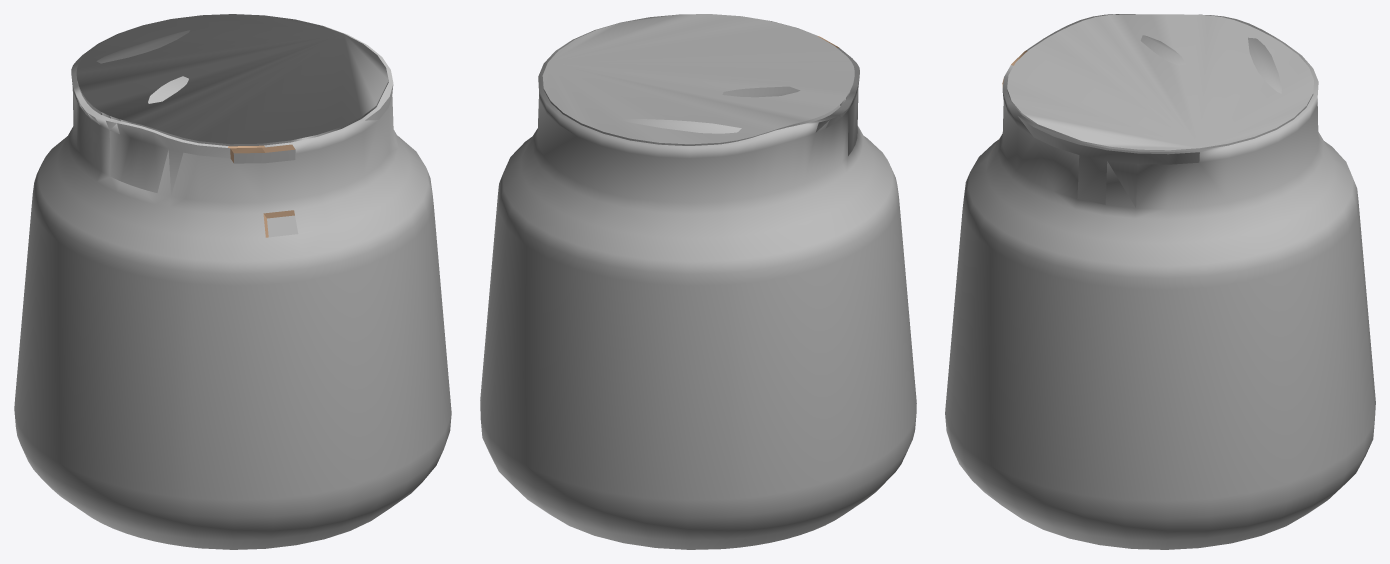
File: LiquidCoffee2.fbx
The picture shows the model from 3 angles, left to right: view 1: azimuth 30°, elevation 25°; view 2: azimuth 150°, elevation 25°; view 3: azimuth 270°, elevation 25°; orthographic projection.
Parts seen in each view (by area): view 1: CoffeeMaker_glass__1_; view 2: CoffeeMaker_glass__1_; view 3: CoffeeMaker_glass__1_.
Boxes of the visible parts, x1=… form: CoffeeMaker_glass__1_: x1=14, y1=14, x2=451, y2=549; CoffeeMaker_glass__1_: x1=480, y1=14, x2=916, y2=549; CoffeeMaker_glass__1_: x1=945, y1=14, x2=1375, y2=549.
Bounding box in the file's own units: 3.21 × 3.3 × 3.2.
